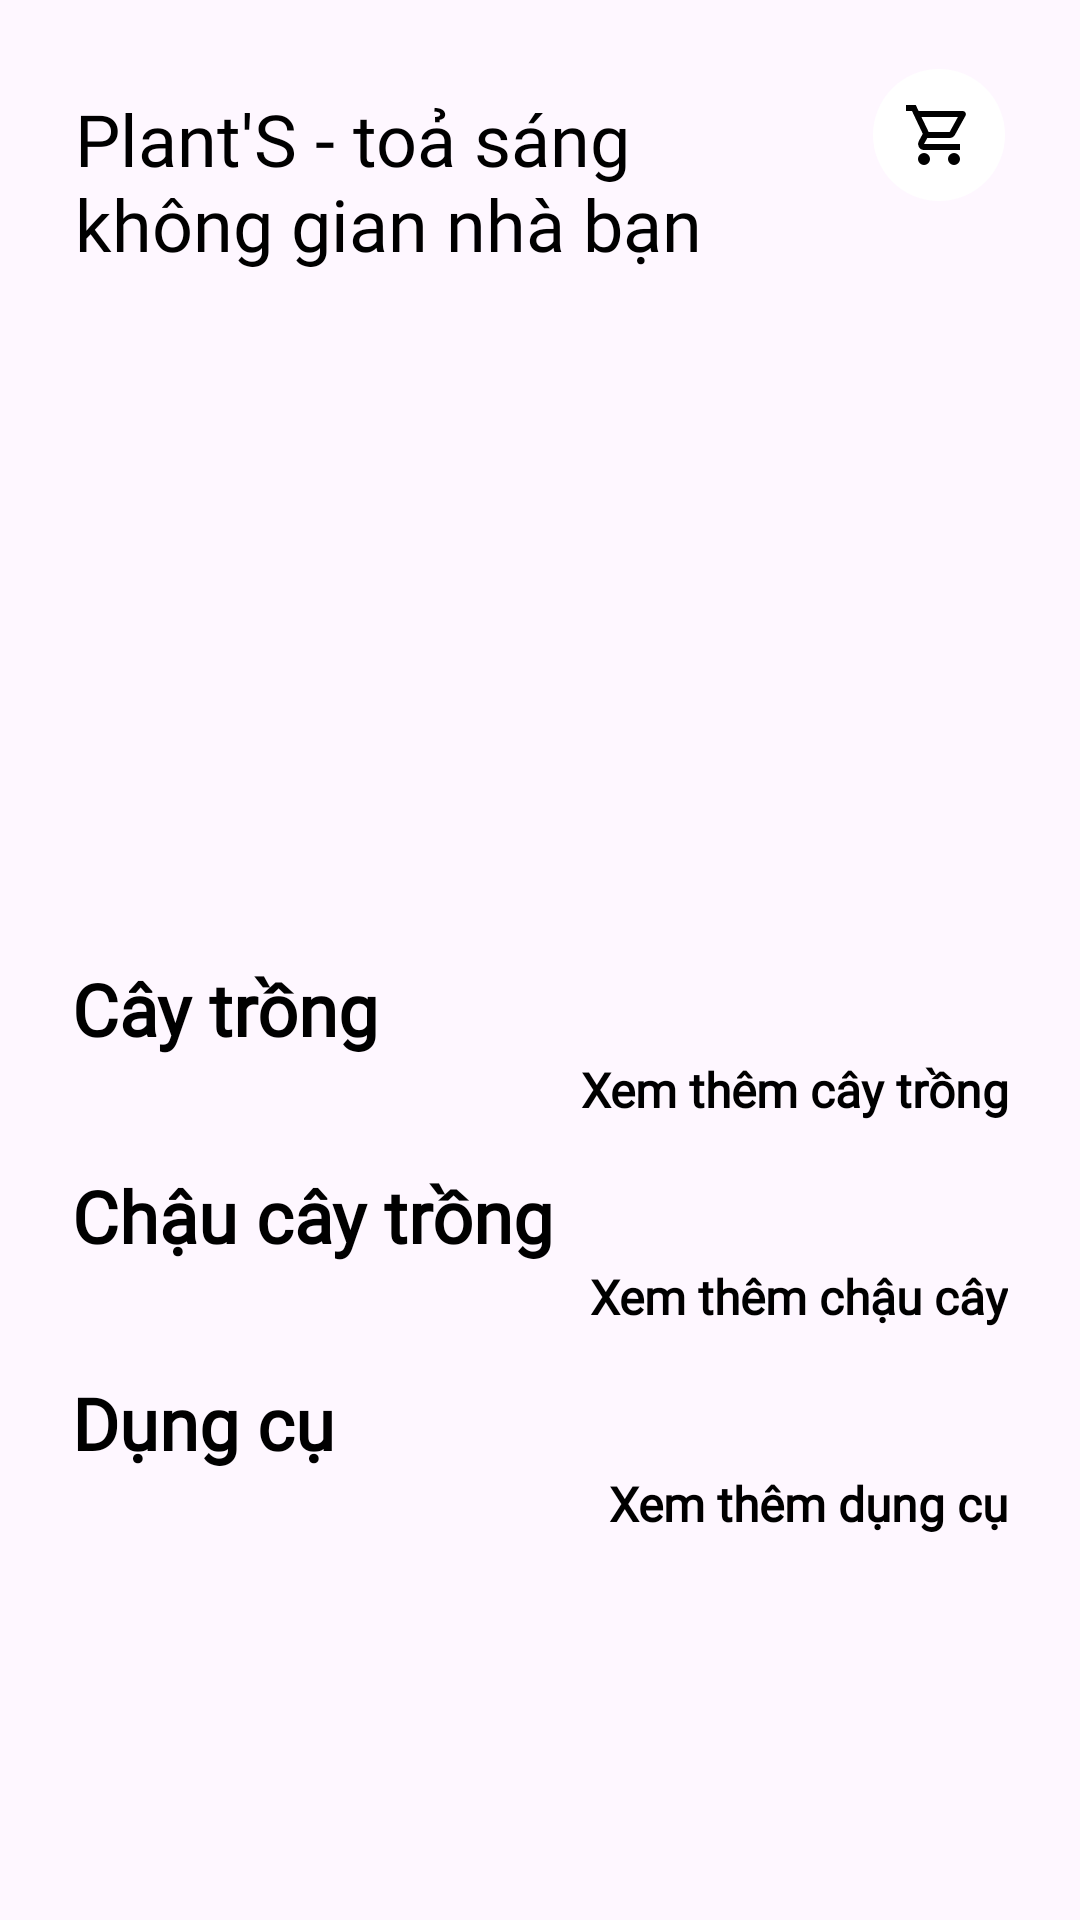

Where icons sit on this 1080×1920 app screen, as (x1, y1, x2, y2):
shopping cart: (906, 105, 966, 165)
